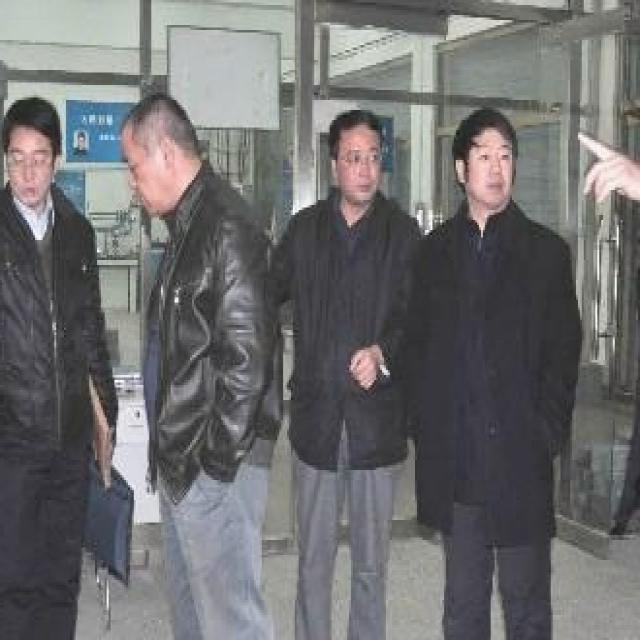Sin_Casco_Mascarrilla: (451, 104, 520, 203), (329, 105, 385, 198)
